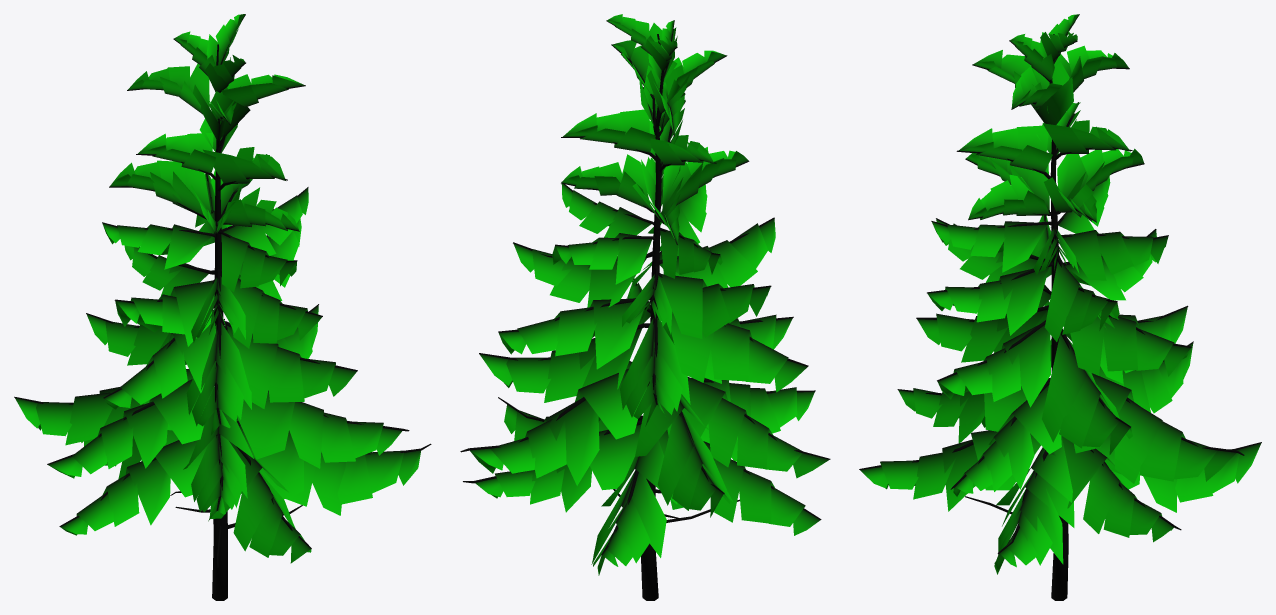
Rendered from Tree_Pine_02.fbx.
The picture shows the model from 3 angles, left to right: view 1: azimuth 30°, elevation 25°; view 2: azimuth 150°, elevation 25°; view 3: azimuth 270°, elevation 25°; orthographic projection.
Parts seen in each view (by area): view 1: IL3DN_Tree_Pine_02_LOD0; view 2: IL3DN_Tree_Pine_02_LOD0; view 3: IL3DN_Tree_Pine_02_LOD0.
Boxes of the visible parts, bbox=[...] form: IL3DN_Tree_Pine_02_LOD0: bbox=[14, 14, 431, 600]; IL3DN_Tree_Pine_02_LOD0: bbox=[460, 14, 830, 600]; IL3DN_Tree_Pine_02_LOD0: bbox=[859, 14, 1261, 600].
Size of what is drawn, in the model's own units: 554 by 853 by 537.
